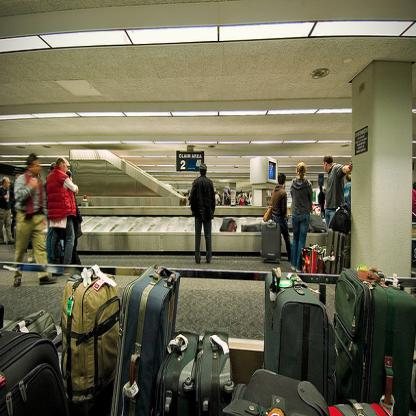backpack: (58, 271, 122, 407), (3, 308, 58, 341), (329, 208, 351, 235), (309, 214, 326, 234), (220, 216, 238, 234)
handbag: (328, 204, 350, 234), (262, 190, 274, 222)
suitcase: (333, 267, 416, 412), (111, 267, 183, 408), (265, 264, 335, 402), (0, 331, 70, 413), (245, 367, 330, 410), (198, 323, 235, 409), (161, 332, 199, 412), (1, 308, 58, 340), (329, 399, 392, 416), (259, 220, 282, 262), (241, 223, 260, 232)
